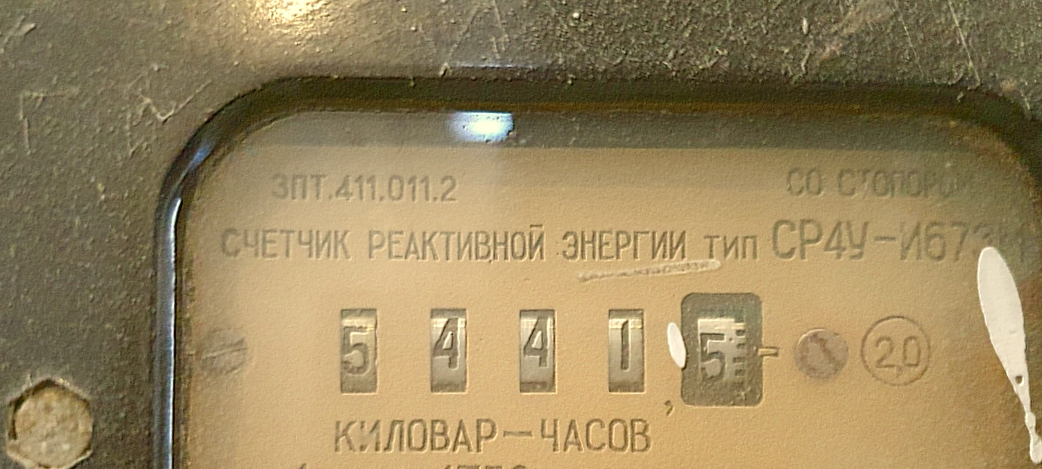1: (611, 316, 637, 375)
4: (517, 309, 556, 376), (428, 311, 466, 373)
5: (695, 325, 732, 389), (336, 321, 376, 379)
screen: (312, 255, 791, 438)
